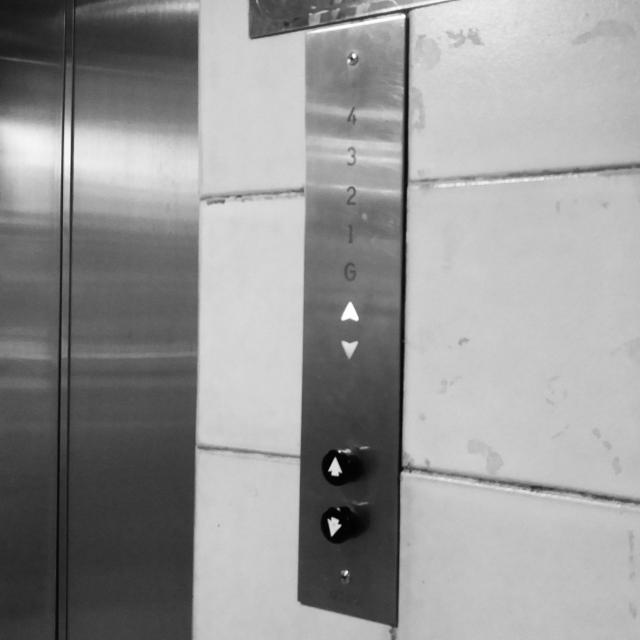down: (317, 501, 366, 550)
up: (314, 443, 363, 492)
